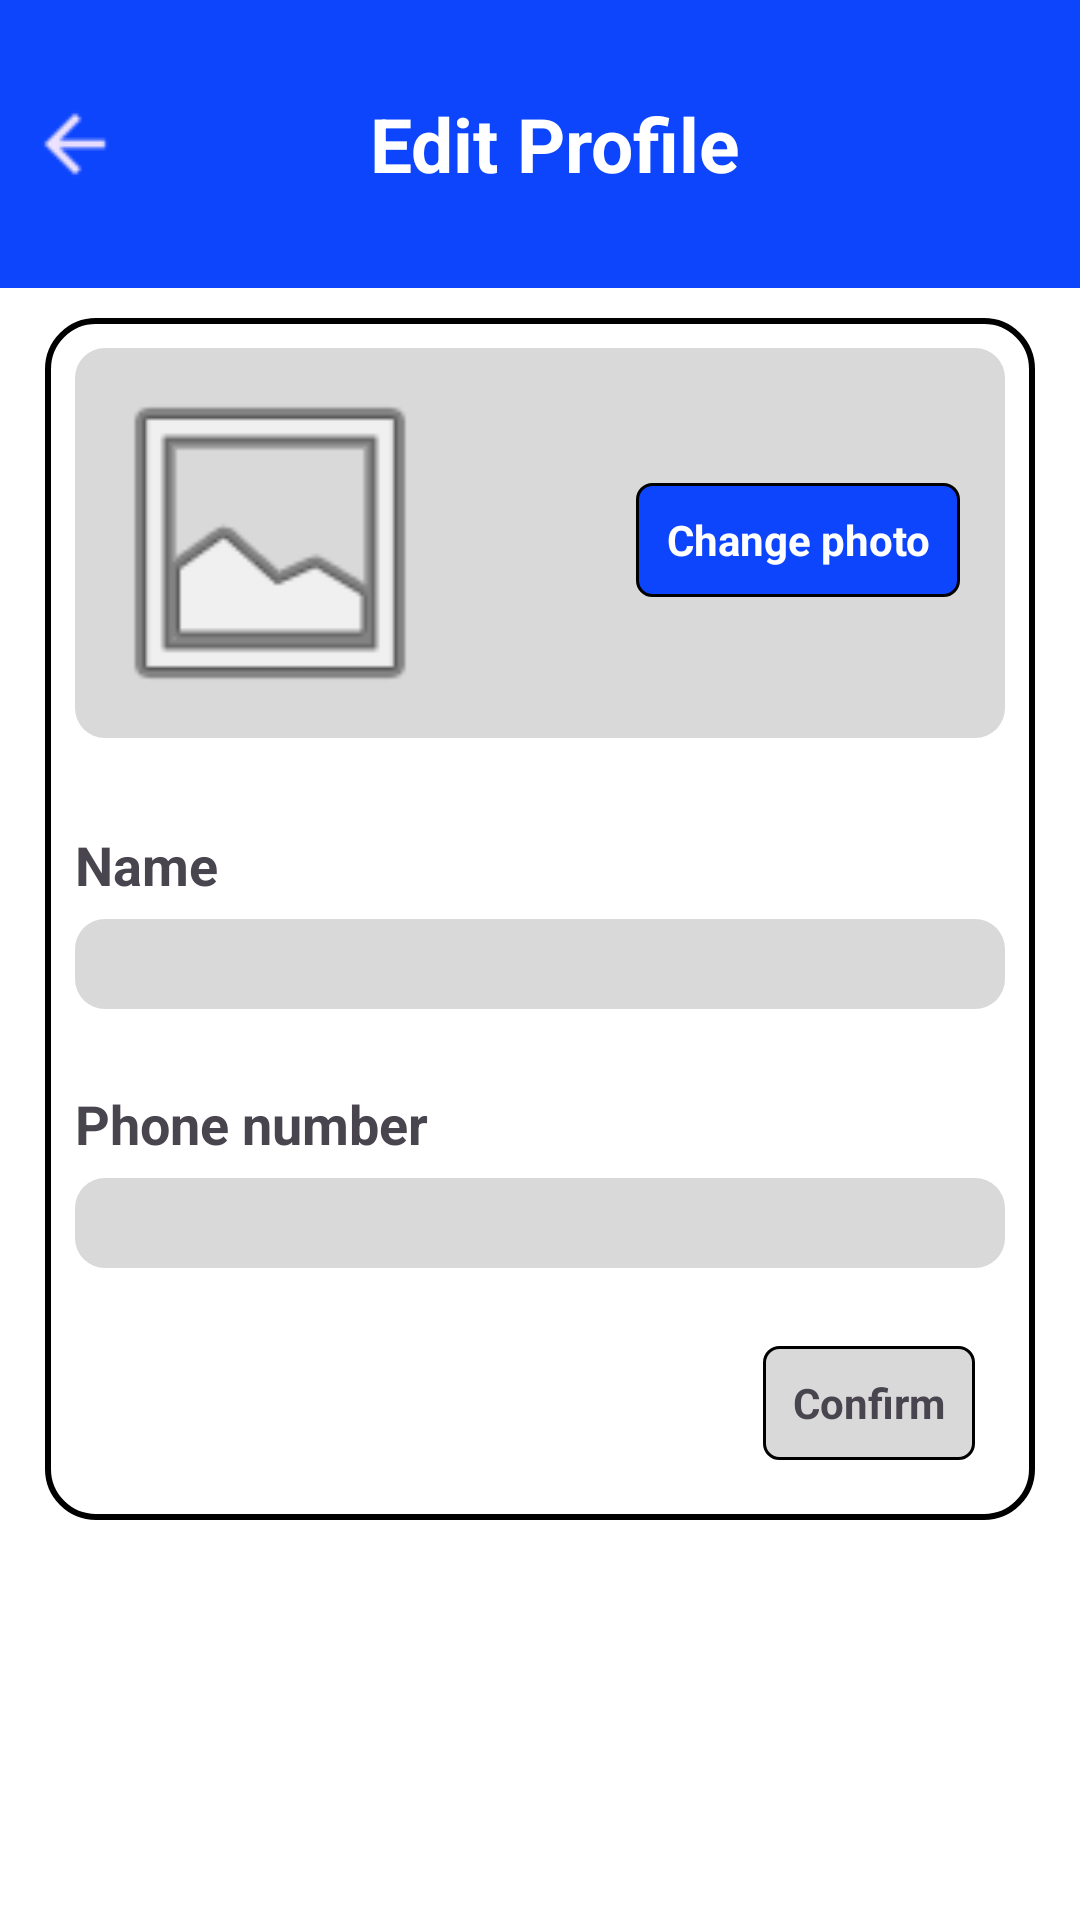

Point at icon controls on the screen. Image size 1080*1920, points as [x,y].
arrow back: [75,144]
